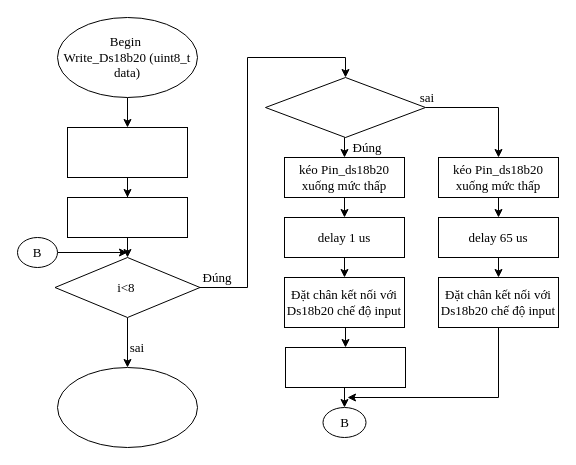
Image size: 576x465. Some labels were removed from this diagram. The centre of each missing label's shape, as x and y in pixels:
"(data & (1<<i))!=0" goes at (x=345, y=107).
"delay 60 us" goes at (x=345, y=367).
"End Write_Ds18b20 (uint8_t data)" goes at (x=127, y=407).
"i=0" goes at (x=127, y=217).
"Đặt chân kết nối với Ds18b20 chế độ output" goes at (x=127, y=152).
